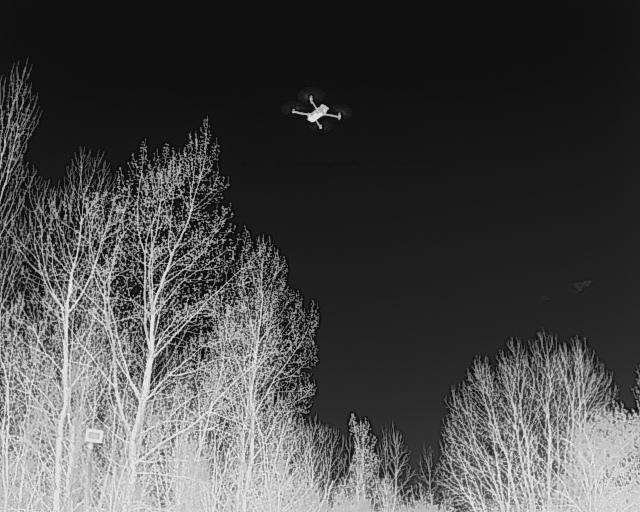drone: (277, 83, 357, 141)
